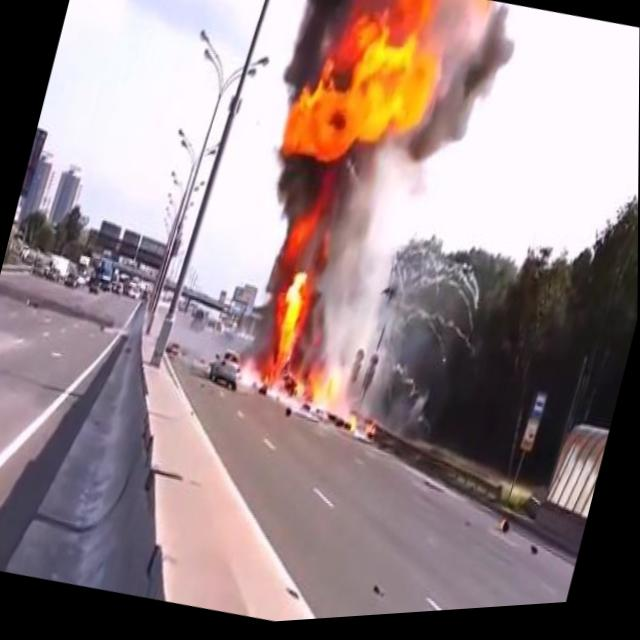fire: (260, 0, 473, 217), (250, 267, 329, 415), (302, 360, 391, 448), (276, 179, 336, 273)
